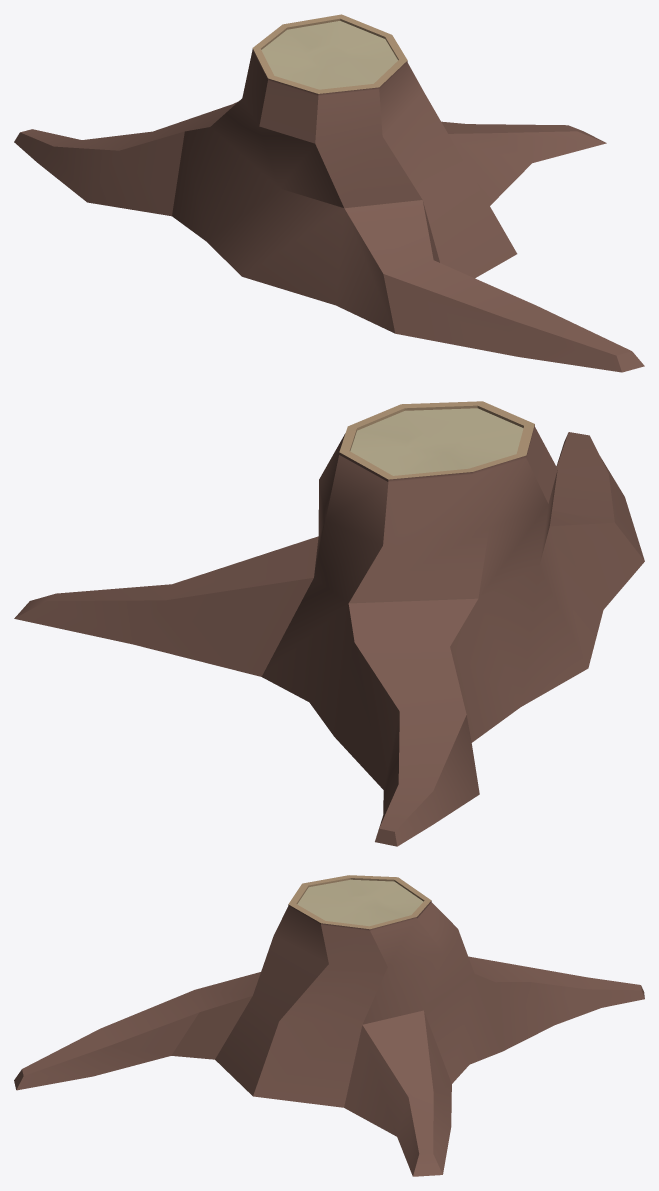
Rendered from Trunks__Stumps_Pack_Tree_trunk_01.005.fbx.
The picture shows the model from 3 angles, top to bottom: view 1: azimuth 30°, elevation 25°; view 2: azimuth 150°, elevation 25°; view 3: azimuth 270°, elevation 25°; orthographic projection. The views are drawn at different scales.
Visible parts, largest first — view 1: Trunks__Stumps_Pack_Tree_trunk_01.005; view 2: Trunks__Stumps_Pack_Tree_trunk_01.005; view 3: Trunks__Stumps_Pack_Tree_trunk_01.005.
Part boxes in pixels (x1,y1,x2,y2): Trunks__Stumps_Pack_Tree_trunk_01.005: (14, 14, 644, 372); Trunks__Stumps_Pack_Tree_trunk_01.005: (14, 401, 644, 846); Trunks__Stumps_Pack_Tree_trunk_01.005: (14, 875, 644, 1176).
Bounding box in the file's own units: 86.41 × 35 × 128.
